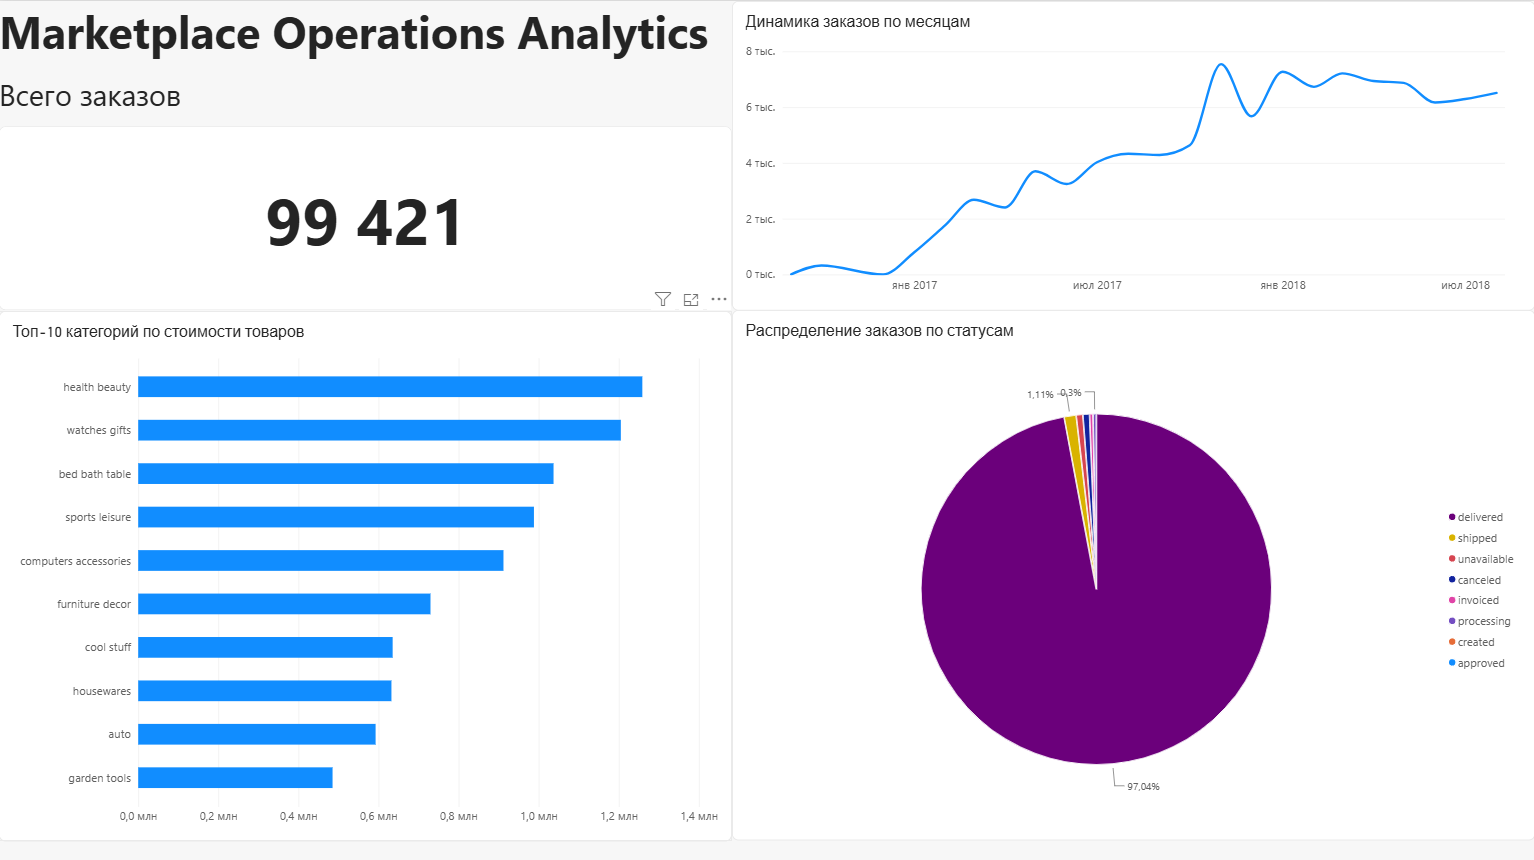

Layout of this report page (visuals, bound fields, positions):
{"tool":"powerbi","page":{"name":"Страница 1","canvas":[1920,1080],"ordinal":0},"visuals":[{"type":"cardVisual","title":"Всего заказов","fields":{"Data":["CountNonNull(raw orders.order_id)"]},"box":[0,92.2,916.3,294.6],"z":0},{"type":"lineChart","title":"Динамика заказов по месяцам","fields":{"Category":["raw orders.order_purchase_timestamp.Изменение.Иерархия дат.Год","raw orders.order_purchase_timestamp.Изменение.Иерархия дат.Месяц"],"Y":["CountNonNull(raw orders.order_id)"]},"box":[916.3,0,1003.7,386.9],"z":1000},{"type":"clusteredBarChart","title":"Топ-10 категорий по стоимости товаров","fields":{"Category":["raw category_translation.product_category_name_english"],"Y":["Sum(raw order_items.price)"]},"box":[0,387,915.9,663.3],"z":2000},{"type":"textbox","box":[0,0,947.4,118.6],"z":2001},{"type":"pieChart","title":"Распределение заказов по статусам","fields":{"Category":["raw orders.order_status"],"Y":["CountNonNull(raw orders.order_id)"]},"box":[916.2,386.7,1004,663],"z":2002}]}

Visuals, with their boxes in screenshot pixels (x1, y1, x2, y2), scaled from the page's 1920x1080 canvas onto the 1534x860 screenshot:
"Всего заказов" cardVisual: x1=0, y1=73, x2=732, y2=308
"Динамика заказов по месяцам" lineChart: x1=732, y1=0, x2=1533, y2=308
"Топ-10 категорий по стоимости товаров" clusteredBarChart: x1=0, y1=308, x2=732, y2=836
textbox: x1=0, y1=0, x2=757, y2=94
"Распределение заказов по статусам" pieChart: x1=732, y1=308, x2=1533, y2=836
